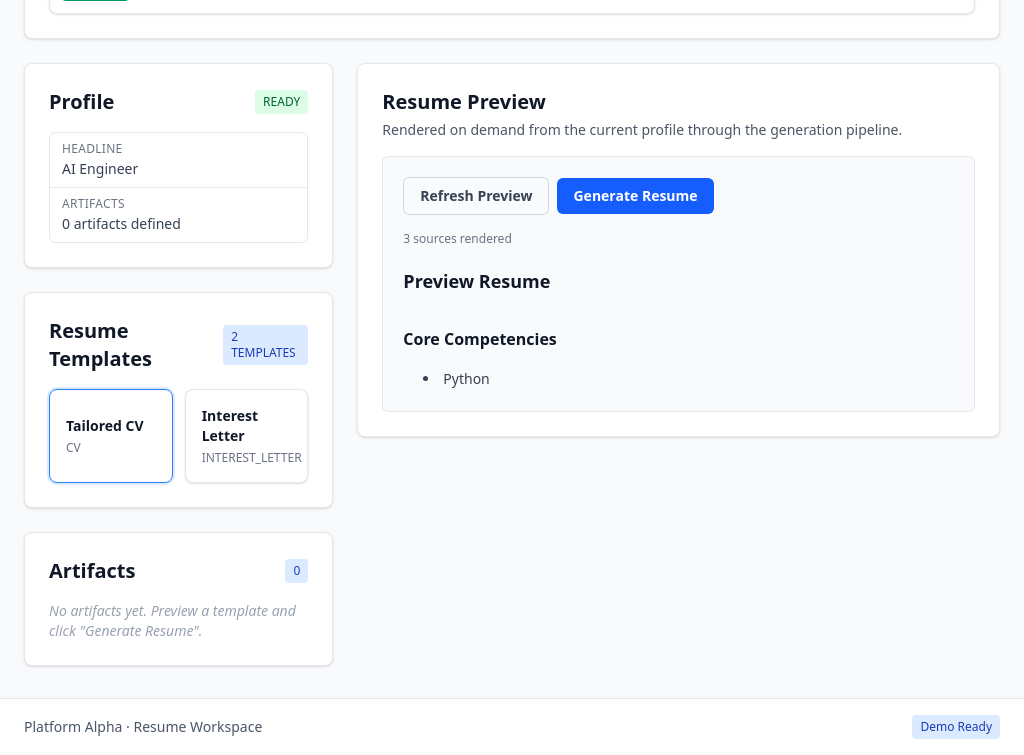
Test: ArtifactWorkspacePage › selecting a template previews it through the preview endpoint
(page scrolled)
Expected: the heading "Preview Resume" is shown, top-left (403, 269), bottom-right (550, 293)
Click the text "Interest Letter" at (230, 426), box top-left (202, 406), bottom-right (258, 445)
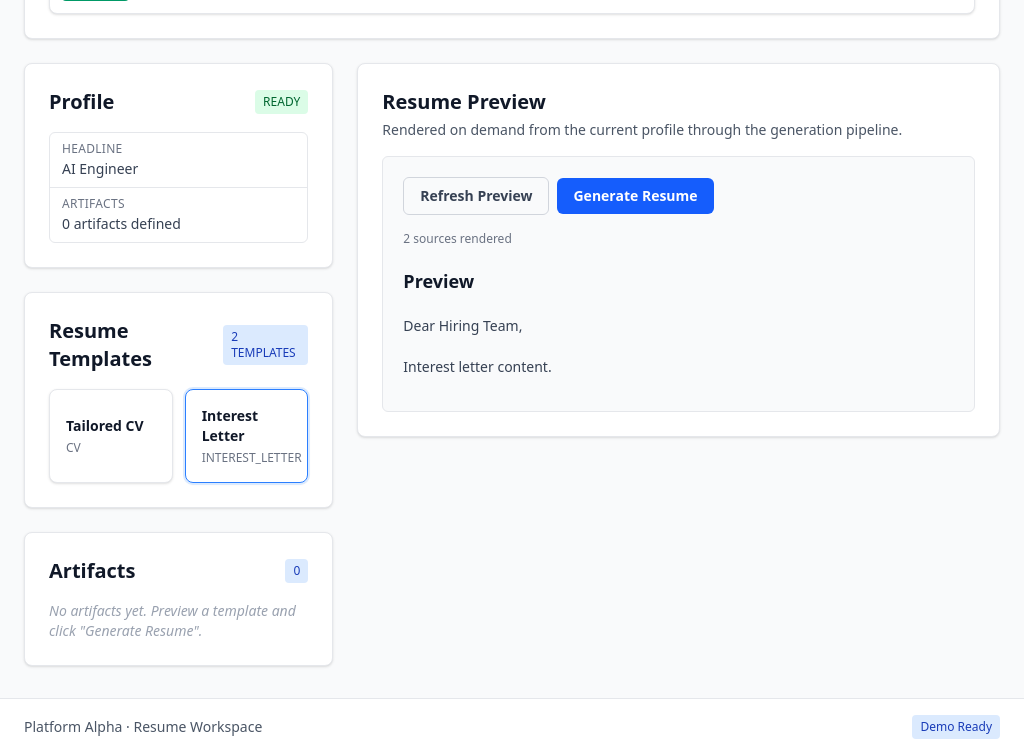
Expected: the heading "Preview" is shown, top-left (403, 269), bottom-right (474, 293)
Now the text "Interest letter content." is shown, box top-left (403, 357), bottom-right (552, 376)
